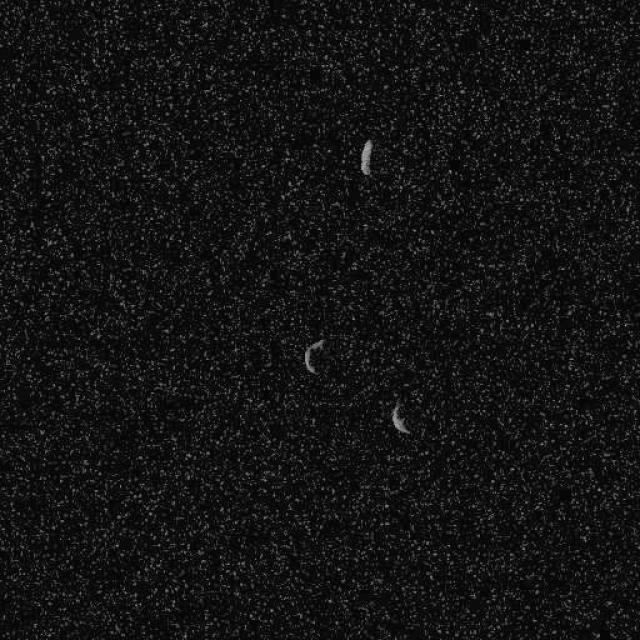D2: (303, 338, 325, 373), (390, 403, 410, 435), (358, 138, 374, 176)
